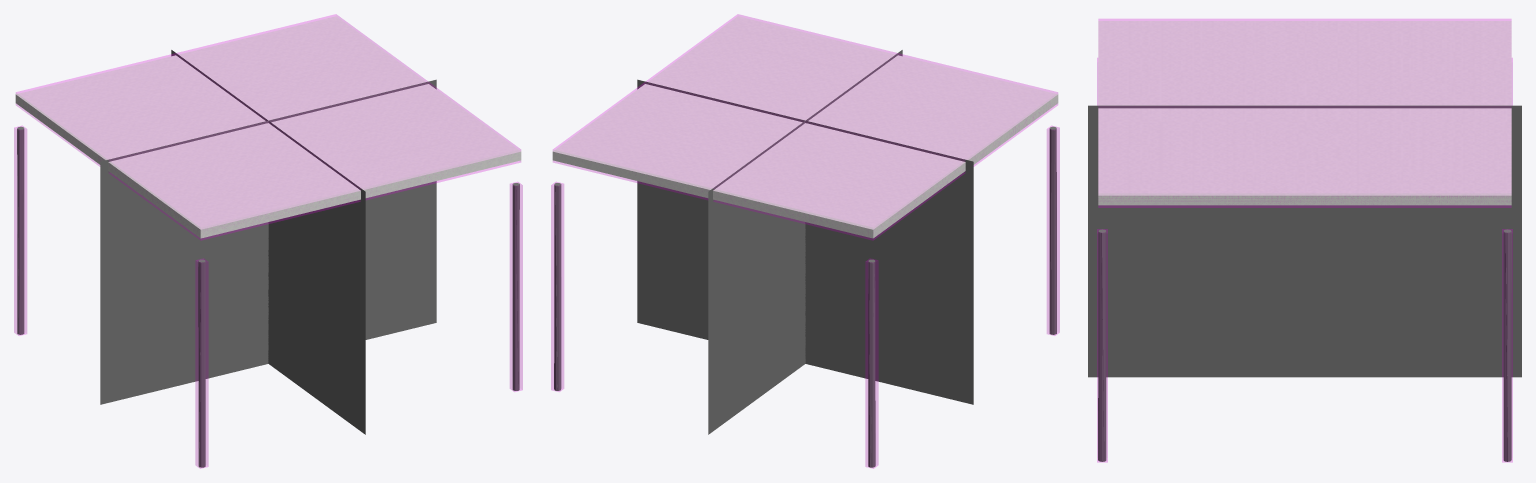
Rendered from tent_blank_3x3.dae.
3 views of the same model, side by side, from view 1: azimuth 30°, elevation 25°; view 2: azimuth 150°, elevation 25°; view 3: azimuth 270°, elevation 25° (orthographic). The views are drawn at different scales.
Visible parts, largest first — view 1: tent_blank_3x3_a800, tent_blank_3x3_a50, tent_blank_3x3_a200, Colmesh_roof-1, Colmesh_pole0-1, Colmesh_pole1-1, Colmesh_pole3-1; view 2: tent_blank_3x3_a800, tent_blank_3x3_a50, Colmesh_roof-1, tent_blank_3x3_a200, Colmesh_pole3-1, Colmesh_pole2-1, Colmesh_pole0-1; view 3: tent_blank_3x3_a50, tent_blank_3x3_a800, Colmesh_roof-1, tent_blank_3x3_a200, Colmesh_pole1-1, Colmesh_pole2-1.
Part boxes in pixels (bbox=[...]): tent_blank_3x3_a800: bbox=[15, 16, 521, 467]; tent_blank_3x3_a50: bbox=[100, 50, 436, 434]; tent_blank_3x3_a200: bbox=[15, 16, 520, 467]; Colmesh_roof-1: bbox=[16, 14, 520, 240]; Colmesh_pole0-1: bbox=[195, 258, 208, 468]; Colmesh_pole1-1: bbox=[510, 182, 522, 391]; Colmesh_pole3-1: bbox=[14, 126, 26, 335]; tent_blank_3x3_a800: bbox=[552, 16, 1058, 467]; tent_blank_3x3_a50: bbox=[637, 50, 973, 434]; Colmesh_roof-1: bbox=[553, 14, 1057, 240]; tent_blank_3x3_a200: bbox=[553, 16, 1057, 467]; Colmesh_pole3-1: bbox=[865, 258, 878, 468]; Colmesh_pole2-1: bbox=[551, 182, 563, 391]; Colmesh_pole0-1: bbox=[1047, 126, 1059, 335]; tent_blank_3x3_a50: bbox=[1088, 105, 1521, 377]; tent_blank_3x3_a800: bbox=[1098, 21, 1511, 461]; Colmesh_roof-1: bbox=[1098, 19, 1511, 207]; tent_blank_3x3_a200: bbox=[1098, 21, 1511, 461]; Colmesh_pole1-1: bbox=[1097, 229, 1107, 462]; Colmesh_pole2-1: bbox=[1502, 229, 1512, 462].
Bounding box in the file's own units: 3.21 × 3.21 × 2.22.
Materials: 3 (1 with a texture image).
